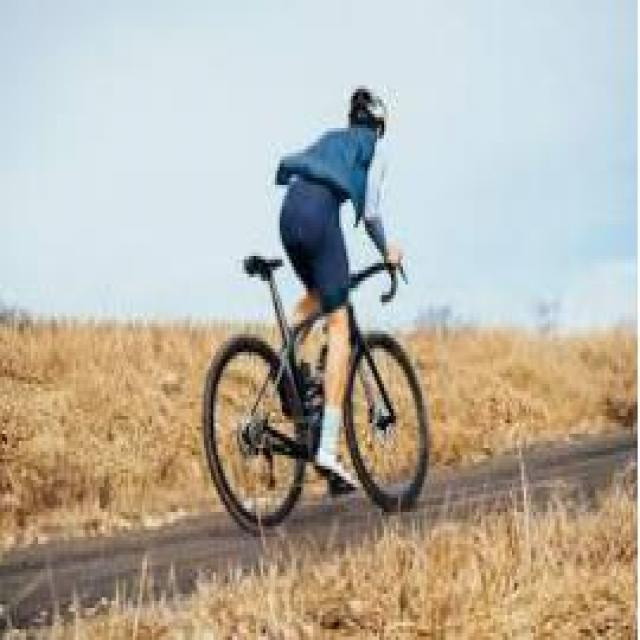bicycle: (202, 246, 435, 531)
